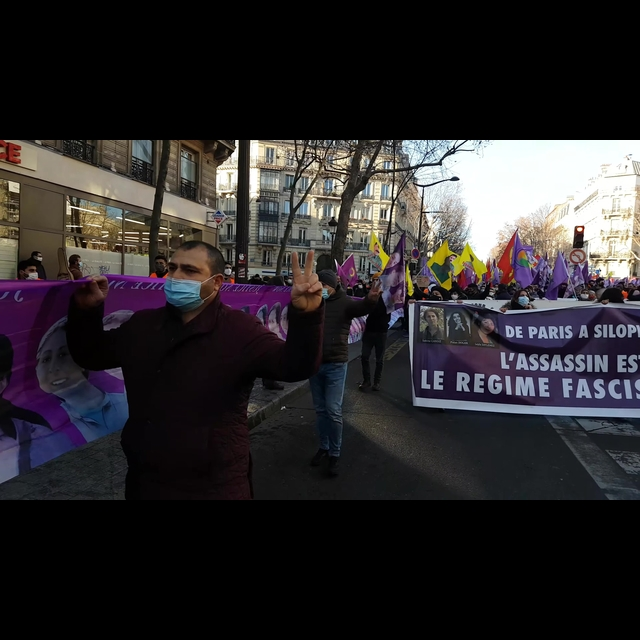ZI: (276, 248, 326, 316)
